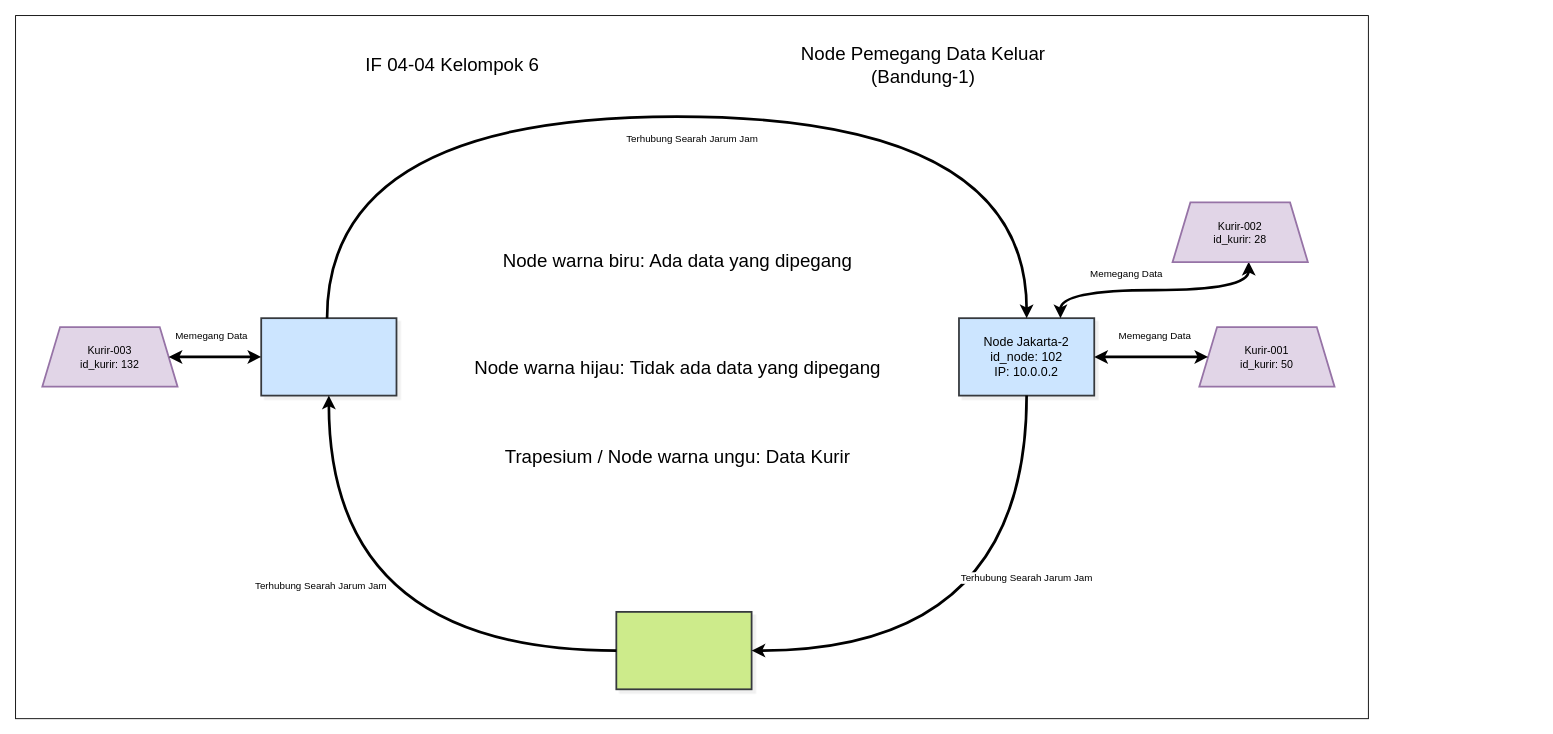
Some shapes in this 1553 by 734 pixel diagram are drawn without their labels. Here are the shapes that lost their labels. From the top down, the centre of each, then its label:
At pixel 330 358: "Node Surabaya-1 id_node: 136 IP: 10.0.0.4".
At pixel 685 652: "Node Medan-1 id_node: 123 IP: 10.0.0.5".
